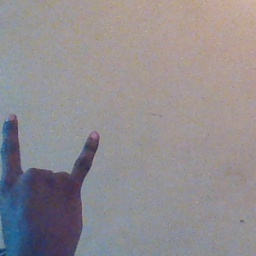V: (1, 106, 104, 256)
